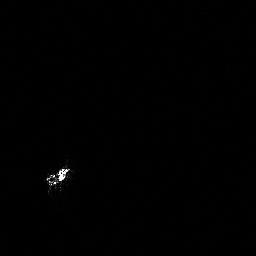ship: (44, 164, 73, 190)
